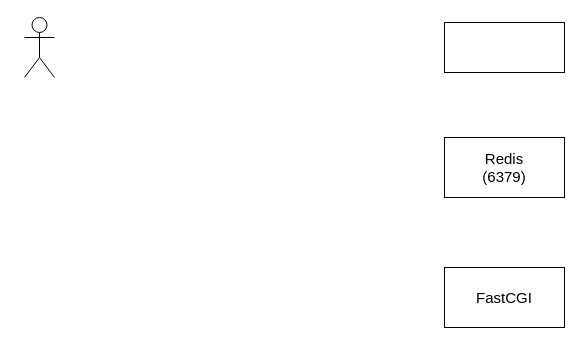
The diagram is 582 pixels wide and 345 high, and some of its shapes have lost their labels. The centre of each missing label's shape, as x and y in pixels:
攻击者: [39,47]
服务器 有ssrf漏洞: [504,47]
